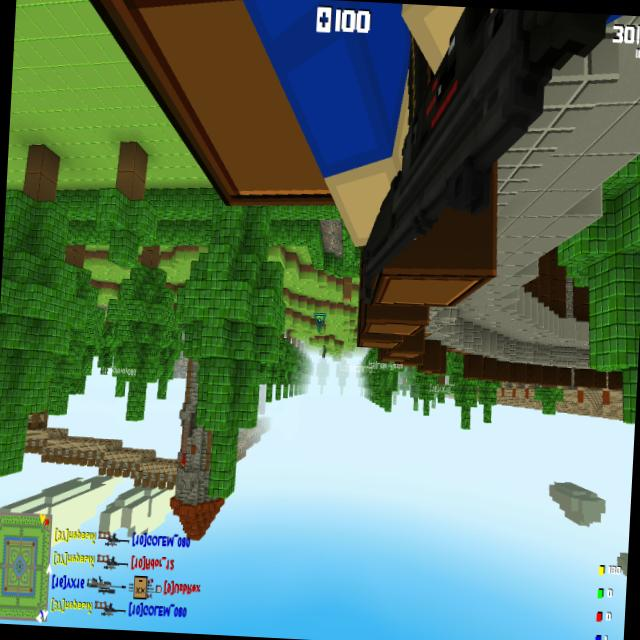enemy: (322, 346, 327, 359), (182, 454, 186, 468)
